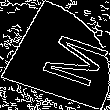M_NW: (13, 24, 97, 86)
